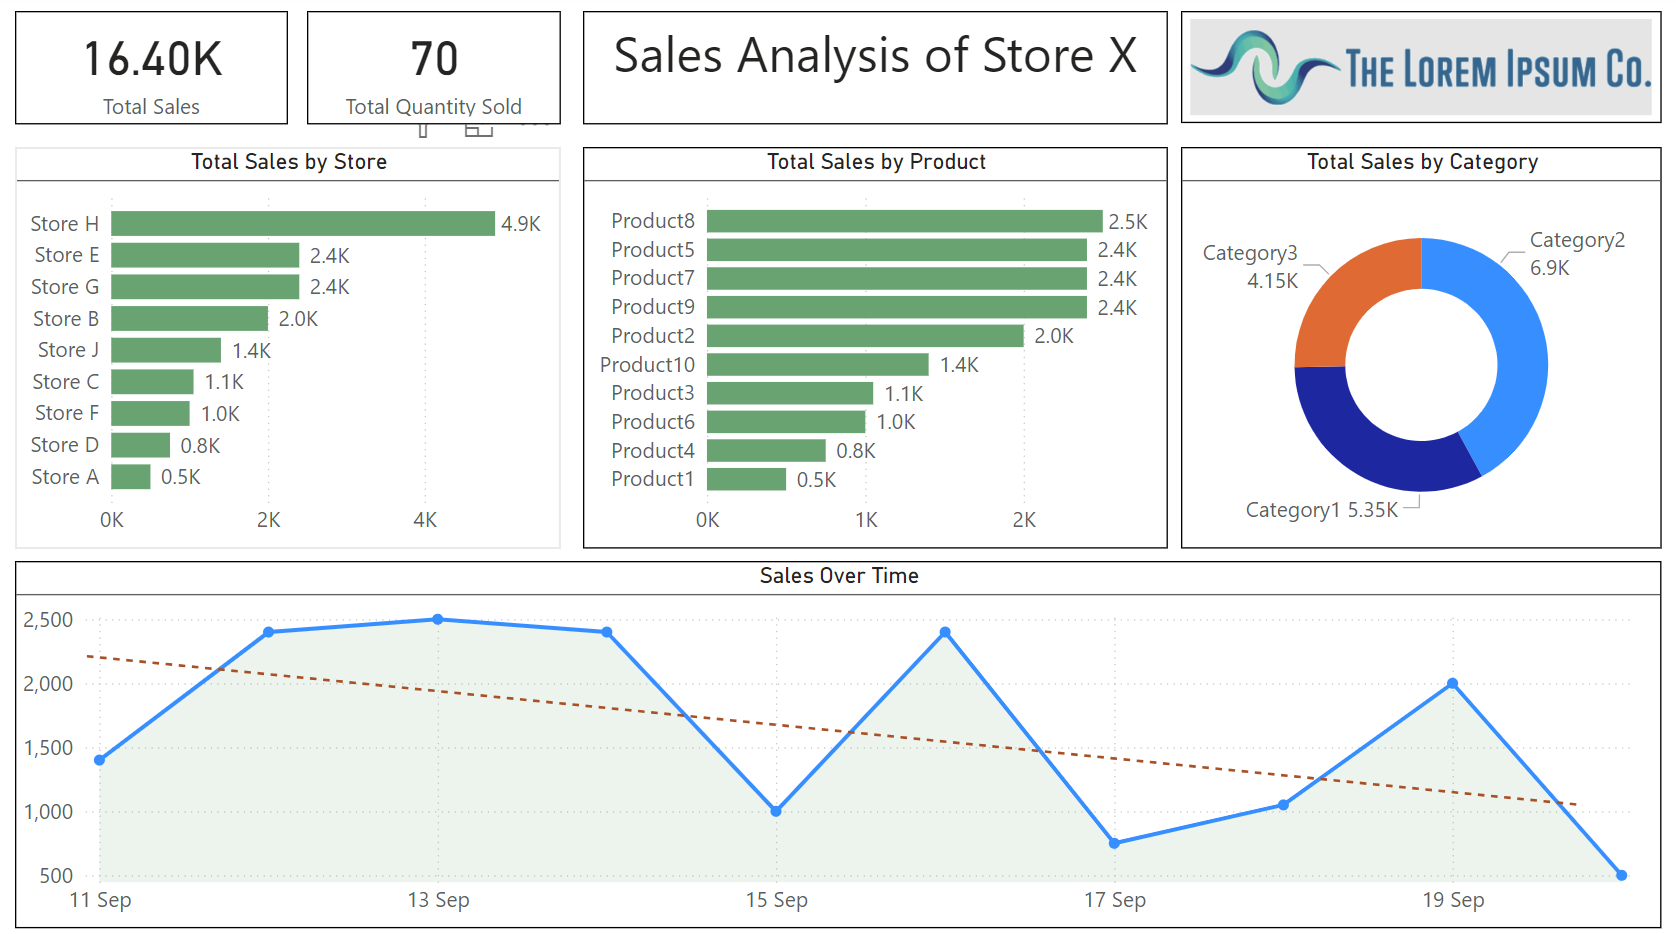

The page's visual inventory and layout, read from the dashboard file:
{"tool":"powerbi","page":{"name":"Sales Analysis","canvas":[1280,720],"ordinal":0},"visuals":[{"type":"barChart","title":"Total Sales by Store","fields":{"Category":["public stores.store_name"],"Y":["Sum(public sales.total_amount)"]},"box":[14.3,118.2,413.7,304.5],"z":0},{"type":"donutChart","title":"Total Sales by Category","fields":{"Category":["public products.category"],"Y":["Sum(public sales.total_amount)"]},"box":[898.2,118.2,364.5,304.5],"z":1},{"type":"barChart","title":"Total Sales by Product","fields":{"Y":["Sum(public sales.total_amount)"],"Category":["public products.product_name"]},"box":[444.2,118.2,443.3,304.5],"z":2},{"type":"card","fields":{"Values":["Sum(public sales.total_amount)"]},"box":[14.3,15.2,206.9,86],"z":3},{"type":"card","fields":{"Values":["Sum(public sales.quantity)"]},"box":[235.5,15.2,192.5,86],"z":4},{"type":"areaChart","title":"Sales Over Time","fields":{"Category":["public sales.sale_date"],"Y":["Sum(public sales.total_amount)"]},"box":[14.3,431.6,1248.4,278.5],"z":5},{"type":"textbox","box":[444.2,15.2,443.3,86],"z":6},{"type":"image","box":[898.2,15.2,364.5,85.1],"z":7}]}

Visuals, with their boxes in screenshot pixels (x1, y1, x2, y2), scaled from the page's 1280x720 canvas onto the 1676x934 screenshot:
"Total Sales by Store" barChart: (x1=19, y1=153, x2=560, y2=548)
"Total Sales by Category" donutChart: (x1=1176, y1=153, x2=1653, y2=548)
"Total Sales by Product" barChart: (x1=582, y1=153, x2=1162, y2=548)
card - Sum(public sales.total_amount): (x1=19, y1=20, x2=290, y2=131)
card - Sum(public sales.quantity): (x1=308, y1=20, x2=560, y2=131)
"Sales Over Time" areaChart: (x1=19, y1=560, x2=1653, y2=921)
textbox: (x1=582, y1=20, x2=1162, y2=131)
image: (x1=1176, y1=20, x2=1653, y2=130)
